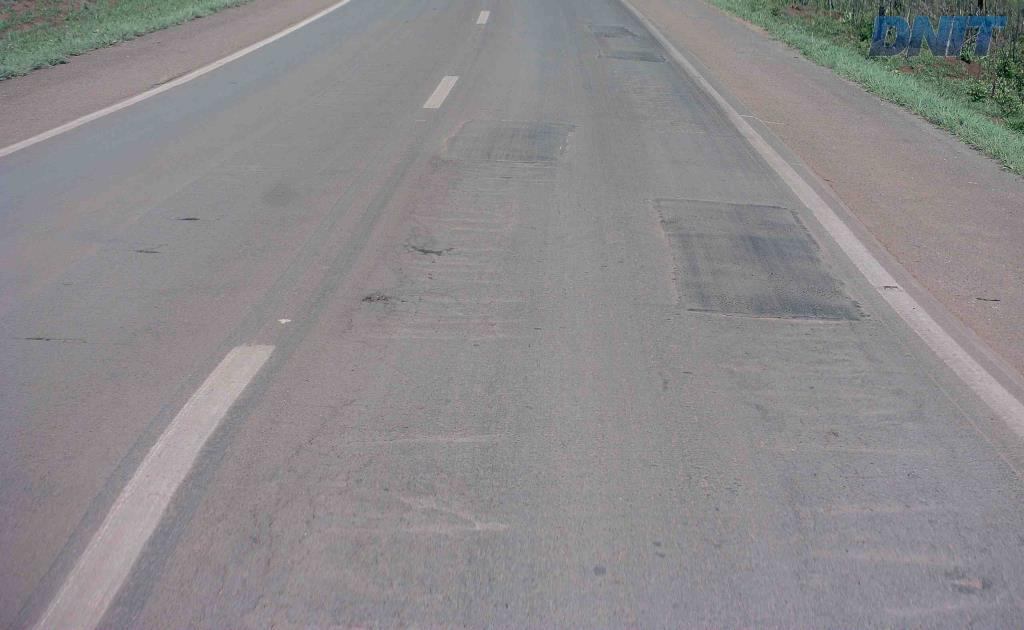pothole: (359, 294, 393, 301)
